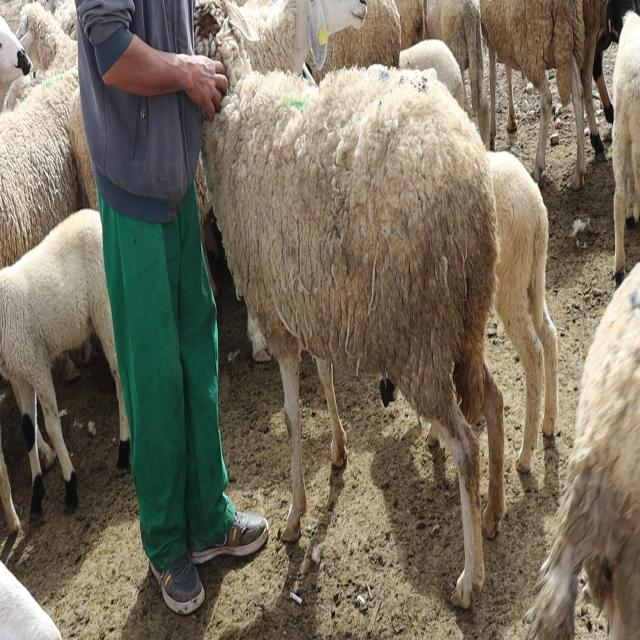Score_3: (195, 0, 505, 607)
